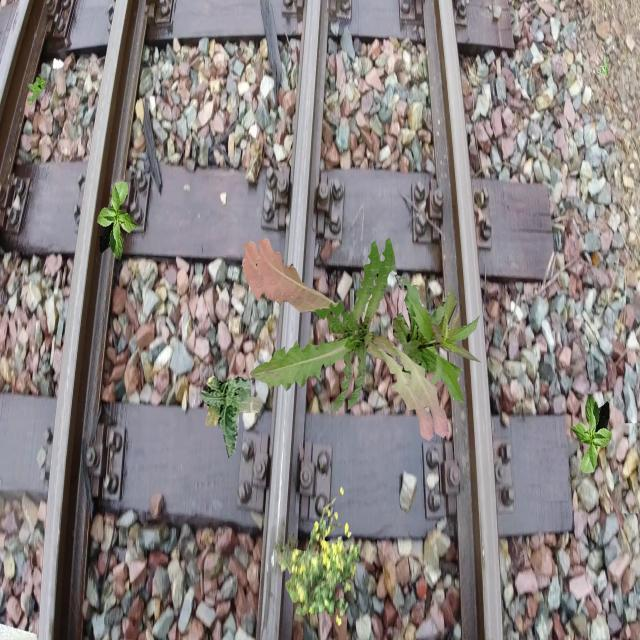Plant: (242, 239, 434, 442), (256, 236, 448, 438), (393, 275, 482, 405), (285, 487, 360, 627), (199, 376, 262, 459), (97, 182, 139, 262), (570, 394, 612, 474), (273, 532, 299, 574), (27, 74, 46, 106), (597, 55, 611, 76)
